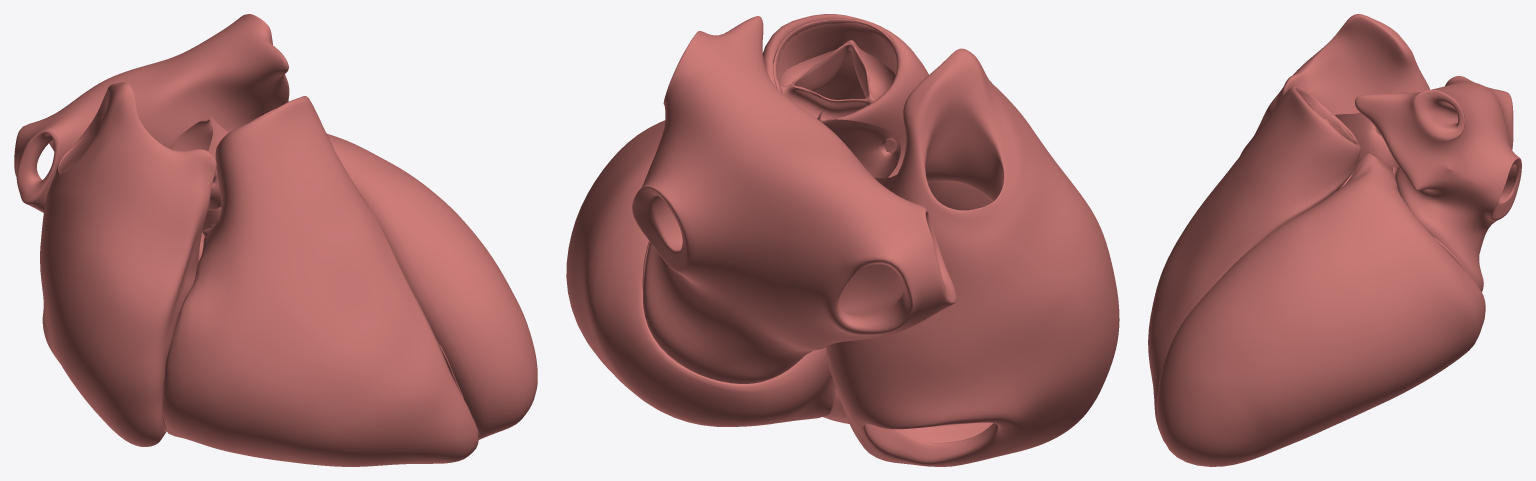
The model's file is hra-heart-male-v1.glb.
3 views of the same model, side by side, from view 1: azimuth 30°, elevation 25°; view 2: azimuth 150°, elevation 25°; view 3: azimuth 270°, elevation 25° (orthographic). The views are drawn at different scales.
Visible parts, largest first — view 1: VH_M_heart_right_ventricle, VH_M_right_cardiac_atrium, VH_M_heart_left_ventricle, VH_M_left_cardiac_atrium, VH_M_aortic_valve; view 2: VH_M_left_cardiac_atrium, VH_M_right_cardiac_atrium, VH_M_heart_left_ventricle, VH_M_heart_right_ventricle, VH_M_pulmonary_valve, VH_M_aortic_valve; view 3: VH_M_heart_left_ventricle, VH_M_heart_right_ventricle, VH_M_left_cardiac_atrium, VH_M_right_cardiac_atrium, VH_M_aortic_valve.
Boxes of the visible parts, x1,y1,x2,y2 form: VH_M_heart_right_ventricle: [162, 96, 478, 466]; VH_M_right_cardiac_atrium: [40, 82, 216, 446]; VH_M_heart_left_ventricle: [202, 133, 537, 439]; VH_M_left_cardiac_atrium: [14, 14, 289, 212]; VH_M_aortic_valve: [170, 114, 229, 210]; VH_M_left_cardiac_atrium: [632, 16, 956, 383]; VH_M_right_cardiac_atrium: [826, 48, 1119, 466]; VH_M_heart_left_ventricle: [566, 120, 833, 426]; VH_M_heart_right_ventricle: [763, 14, 928, 423]; VH_M_pulmonary_valve: [773, 19, 895, 119]; VH_M_aortic_valve: [817, 112, 900, 188]; VH_M_heart_left_ventricle: [1156, 153, 1485, 466]; VH_M_heart_right_ventricle: [1148, 86, 1360, 442]; VH_M_left_cardiac_atrium: [1355, 76, 1521, 291]; VH_M_right_cardiac_atrium: [1240, 14, 1429, 155]; VH_M_aortic_valve: [1334, 112, 1398, 169].
Size of the model in its own units: 0.1244 by 0.1054 by 0.1052.
